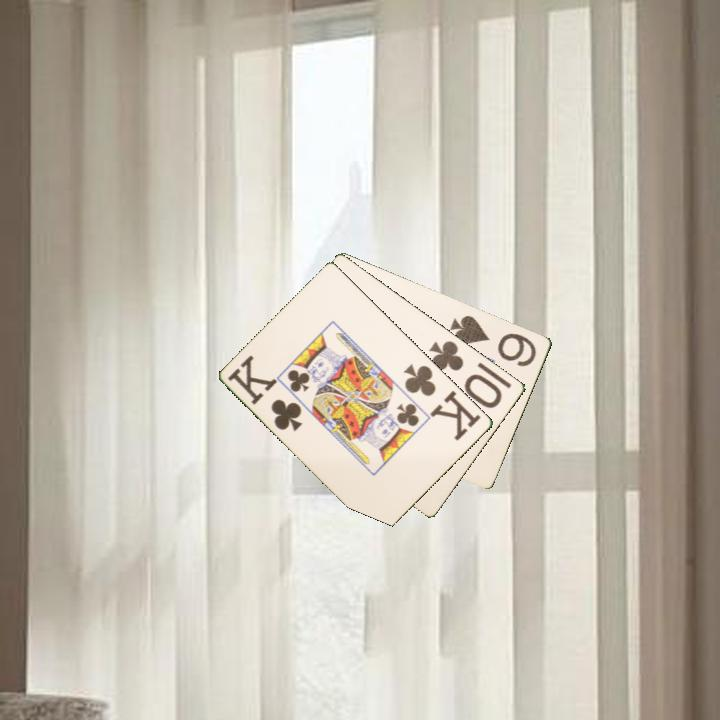10c: (426, 337, 506, 411)
6s: (447, 311, 540, 370)
Kc: (400, 360, 484, 443), (224, 352, 306, 434)
